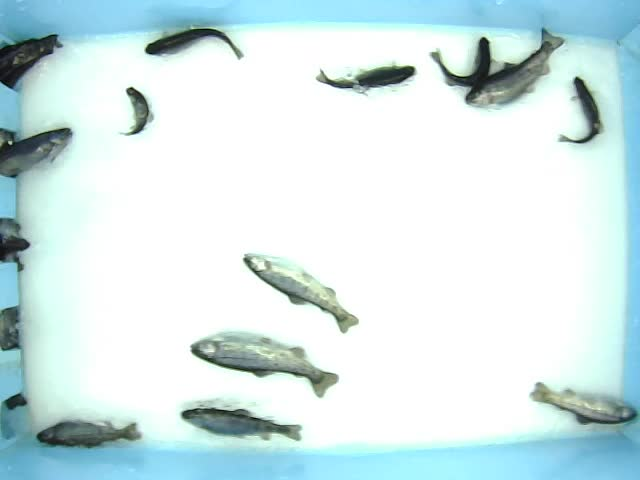fish: (188, 331, 340, 399), (241, 252, 361, 335), (464, 26, 567, 113), (527, 381, 640, 428), (179, 406, 304, 445), (34, 416, 143, 451), (428, 35, 498, 88), (144, 27, 246, 62), (315, 60, 418, 94), (556, 75, 603, 146), (117, 85, 156, 138)
